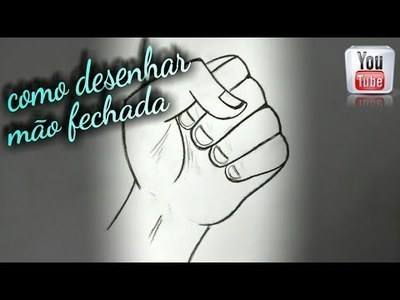closedhandfront: (113, 44, 294, 222)
